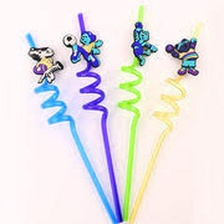drinking_straw: (20, 28, 121, 224), (125, 18, 209, 224), (57, 8, 126, 224), (112, 1, 161, 224)
